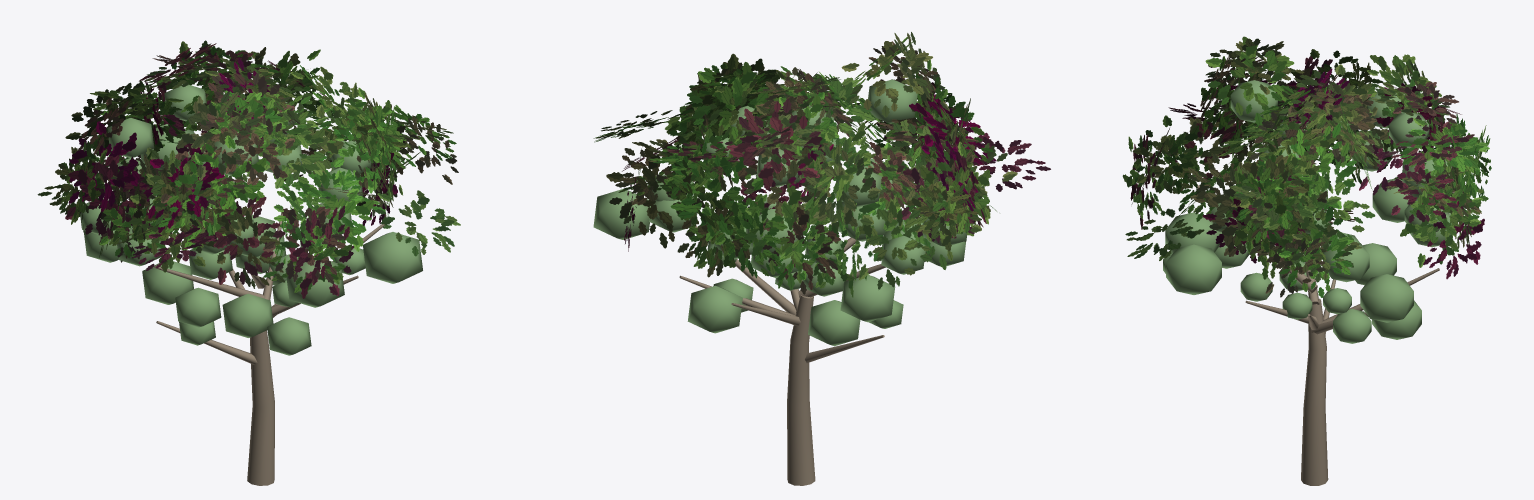
Rendered from tree_oak_cards.glb.
3 views of the same model, side by side, from view 1: azimuth 30°, elevation 25°; view 2: azimuth 150°, elevation 25°; view 3: azimuth 270°, elevation 25° (orthographic). The views are drawn at different scales.
Visible parts, largest first — view 1: body; view 2: body; view 3: body.
Boxes of the visible parts, bbox=[...] form: body: bbox=[37, 40, 460, 485]; body: bbox=[593, 32, 1050, 485]; body: bbox=[1122, 36, 1491, 485].
Size of the model in its own units: 14.81 by 14.39 by 12.78.
2 materials, 1 textured.
